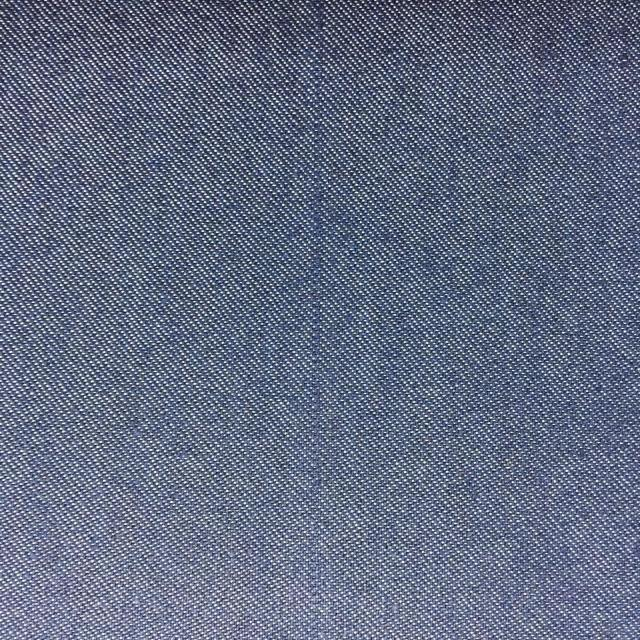Line: (305, 0, 324, 640)
